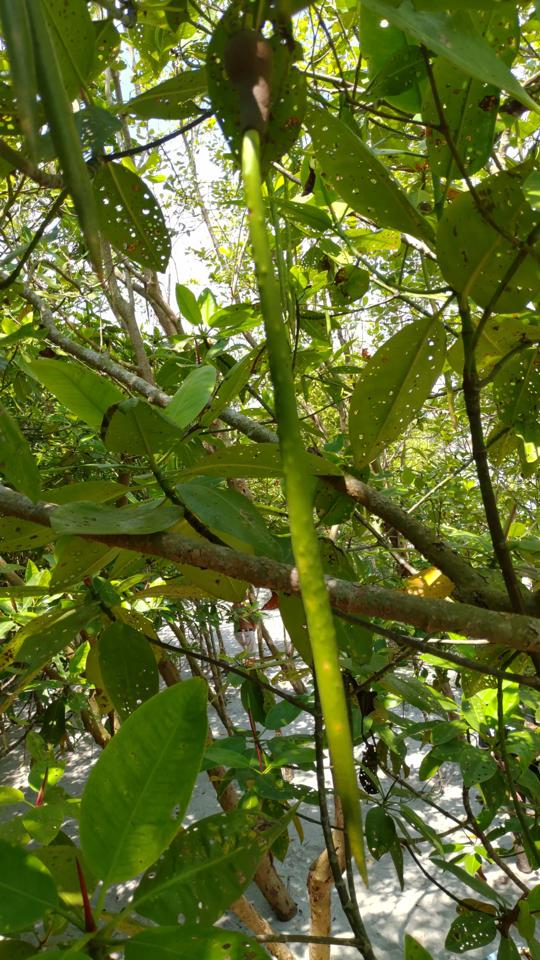mentah: (205, 19, 400, 893)
